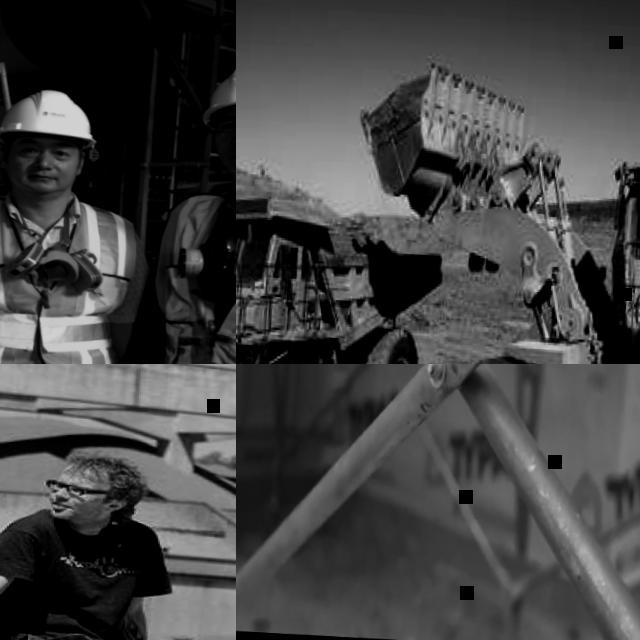Hardhat: (0, 86, 105, 148), (197, 58, 236, 123)
NO-Hardhat: (61, 453, 144, 490)
NO-Mask: (46, 495, 109, 524), (14, 167, 70, 196), (215, 145, 236, 175)
NO-Safety Vest: (0, 503, 156, 640)
Person: (0, 439, 236, 640), (0, 72, 161, 364), (104, 49, 236, 364)
Safety Vest: (0, 192, 141, 364), (137, 175, 236, 364)
machinery: (327, 49, 640, 364), (236, 170, 449, 364)
